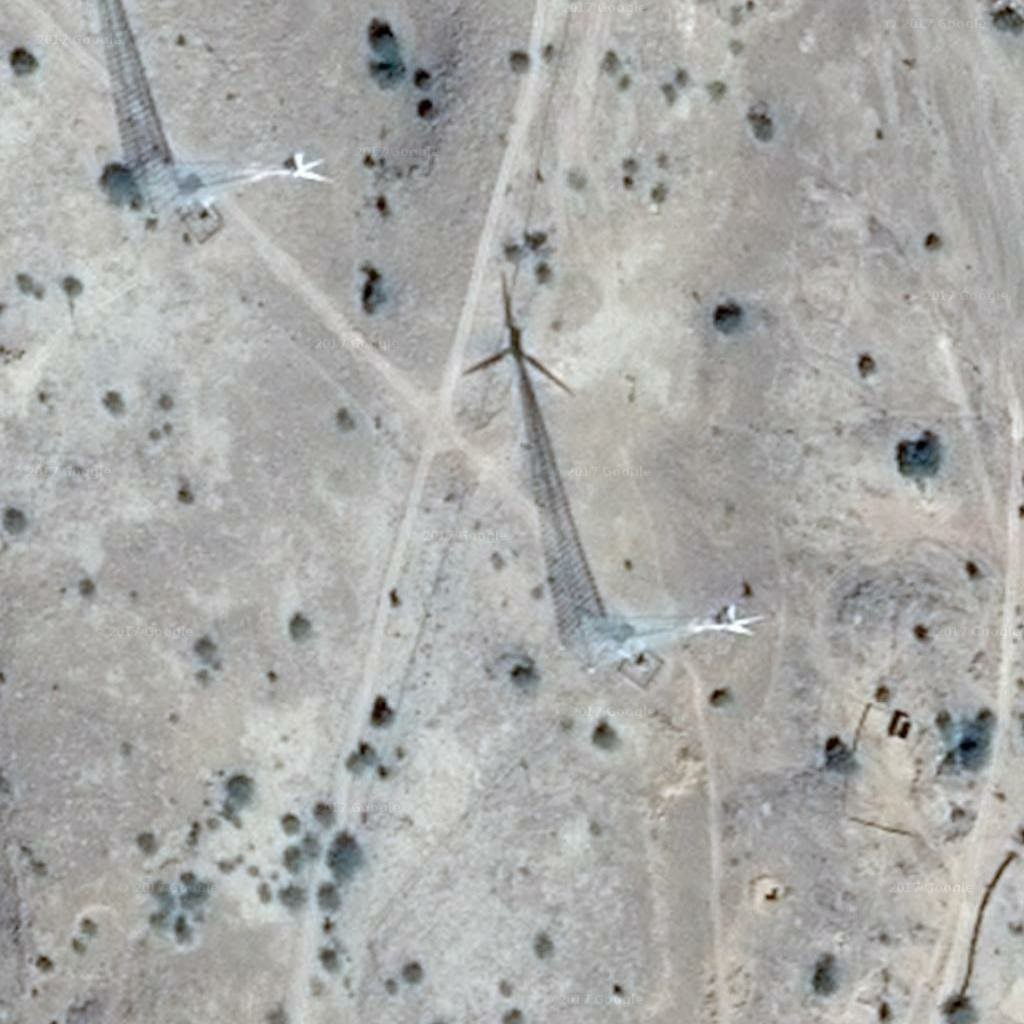Windmill: (464, 271, 634, 638)
